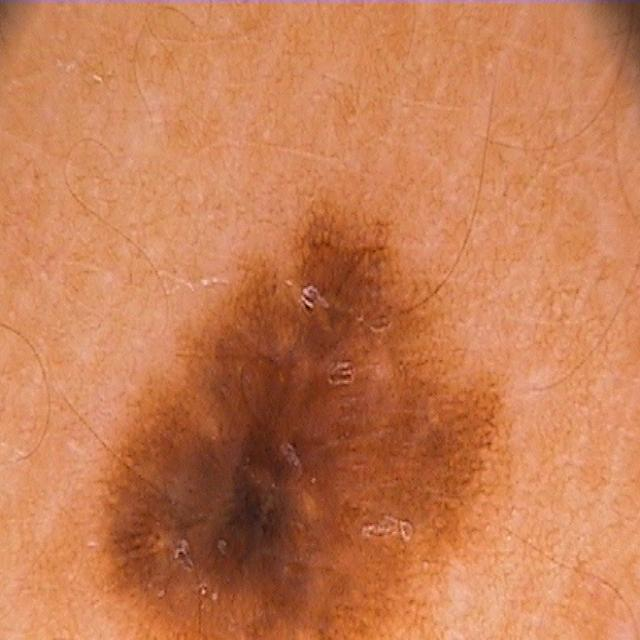Melanoma: (57, 188, 548, 640)
